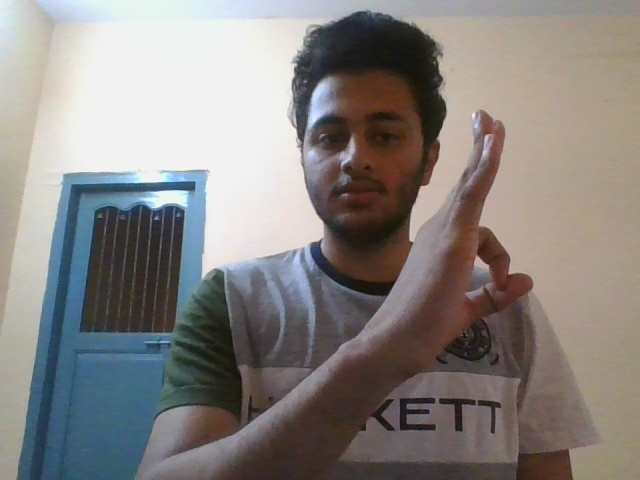Ok: (373, 103, 538, 367)
